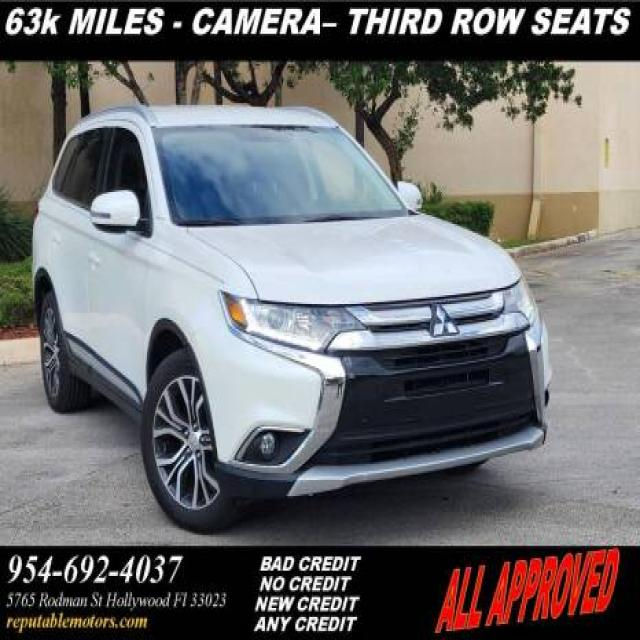light_vehicle: (30, 103, 552, 533)
